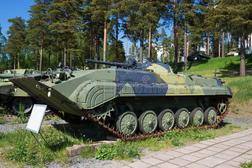bmp: (13, 59, 233, 135)
